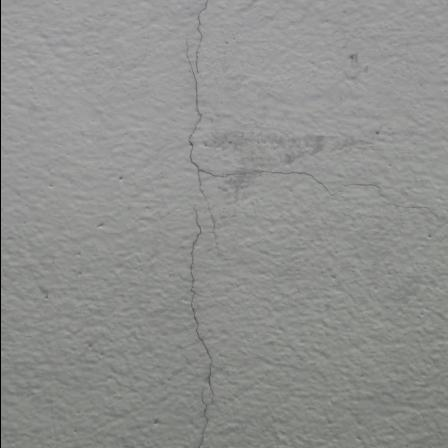crack: (86, 26, 448, 359), (179, 196, 221, 448), (187, 0, 209, 79)
